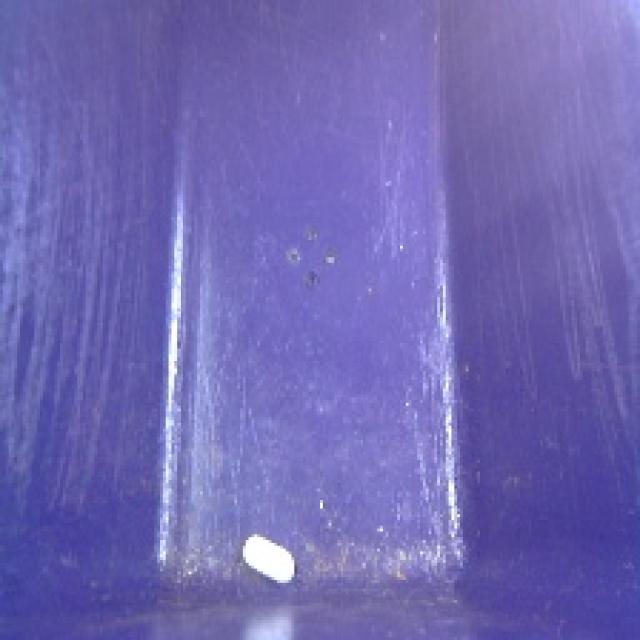small: (236, 526, 306, 596)
